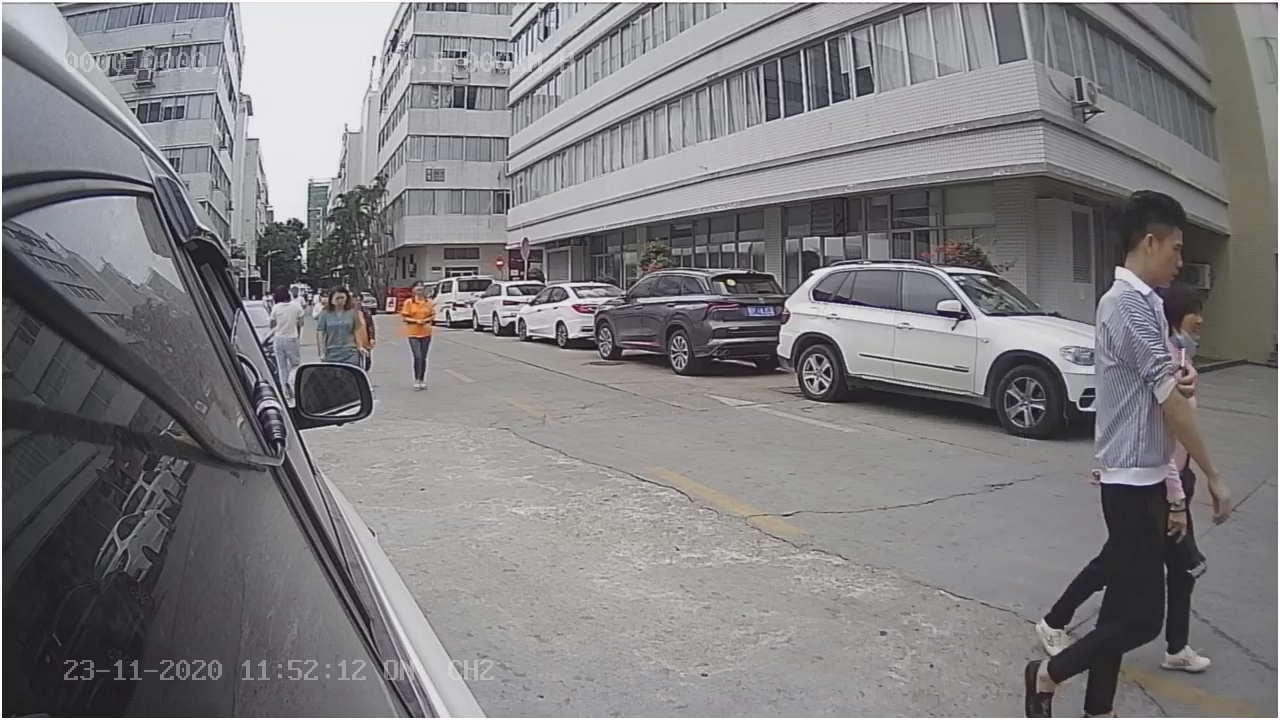person: (1082, 176, 1188, 437)
